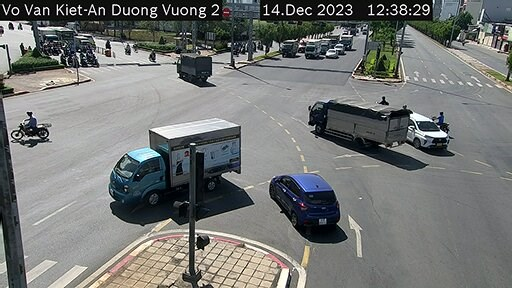car: (265, 169, 349, 232), (402, 103, 459, 159)
motorbike: (5, 109, 59, 148), (425, 106, 456, 134)
truck: (103, 119, 242, 208), (311, 85, 412, 158), (170, 50, 220, 87)
